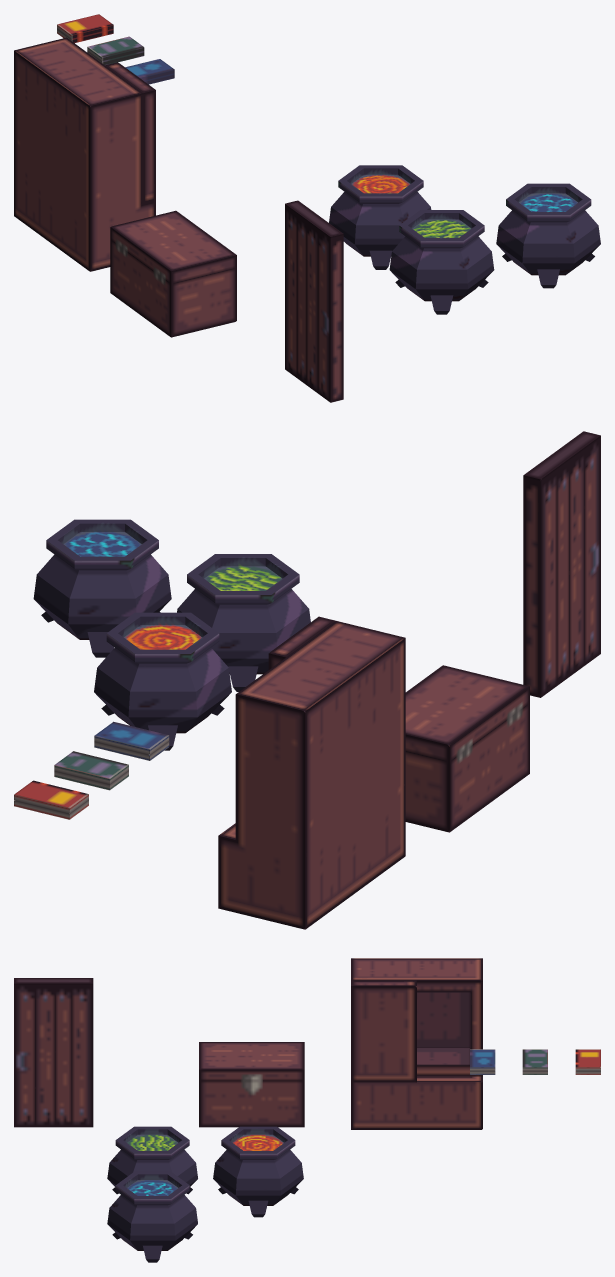
File: Cauldrons.fbx
3 renders of one model, top to bottom at view 1: azimuth 30°, elevation 25°; view 2: azimuth 150°, elevation 25°; view 3: azimuth 270°, elevation 25°, orthographic. The views are drawn at different scales.
Parts seen in each view (by area): view 1: Wardrobe, Door, CauldronBlue, CauldronGreen, Chest.002, CauldronRed, Chest.001, WardrobeDoor, Book.002, Book.004, Book; view 2: Wardrobe, Door, CauldronRed, CauldronBlue, CauldronGreen, Chest.002, Chest.001, Book, Book.004, Book.002, WardrobeDoor; view 3: Wardrobe, Door, WardrobeDoor, CauldronBlue, CauldronRed, Chest.002, Chest.001, CauldronGreen, Book, Book.002, Book.004.
Part boxes in pixels (<box>): Wardrobe: <box>14,37,155,271</box>; Door: <box>285,200,343,402</box>; CauldronBlue: <box>496,183,600,288</box>; CauldronGreen: <box>389,210,494,314</box>; Chest.002: <box>110,238,236,337</box>; CauldronRed: <box>329,165,431,269</box>; Chest.001: <box>110,210,236,282</box>; WardrobeDoor: <box>105,62,155,203</box>; Book.002: <box>87,36,144,61</box>; Book.004: <box>57,14,113,39</box>; Book: <box>125,59,174,81</box>; Wardrobe: <box>218,621,405,929</box>; Door: <box>523,431,600,697</box>; CauldronRed: <box>94,612,231,750</box>; CauldronBlue: <box>33,519,171,657</box>; CauldronGreen: <box>177,554,310,691</box>; Chest.002: <box>405,701,529,832</box>; Chest.001: <box>405,665,529,759</box>; Book: <box>94,721,169,754</box>; Book.004: <box>14,780,88,813</box>; Book.002: <box>54,751,128,784</box>; WardrobeDoor: <box>268,616,335,669</box>; Wardrobe: <box>351,958,482,1129</box>; Door: <box>14,978,93,1127</box>; WardrobeDoor: <box>351,980,416,1082</box>; CauldronBlue: <box>107,1171,197,1262</box>; CauldronRed: <box>213,1126,303,1217</box>; Chest.002: <box>199,1079,304,1127</box>; Chest.001: <box>199,1042,304,1079</box>; CauldronGreen: <box>107,1126,197,1194</box>; Book: <box>470,1049,495,1070</box>; Book.002: <box>522,1049,547,1070</box>; Book.004: <box>575,1049,600,1070</box>.
Size of the model in its own units: 746 by 300 by 1110.
